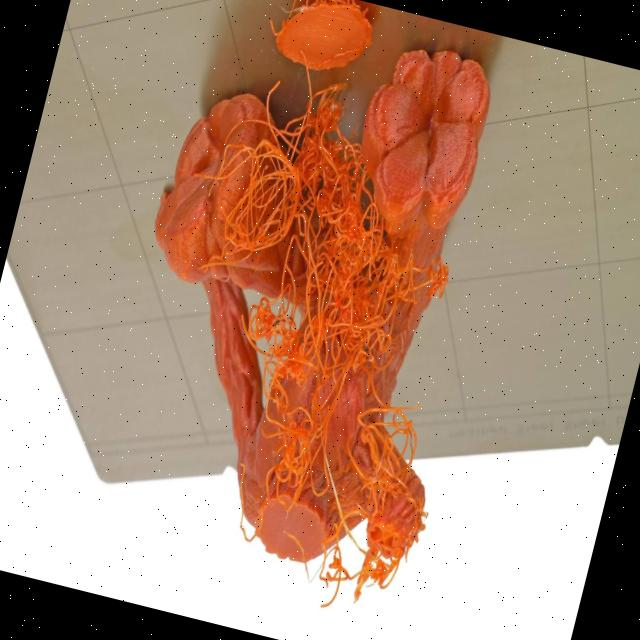spaghetti: (209, 88, 433, 349), (312, 394, 459, 608), (234, 318, 356, 514)
